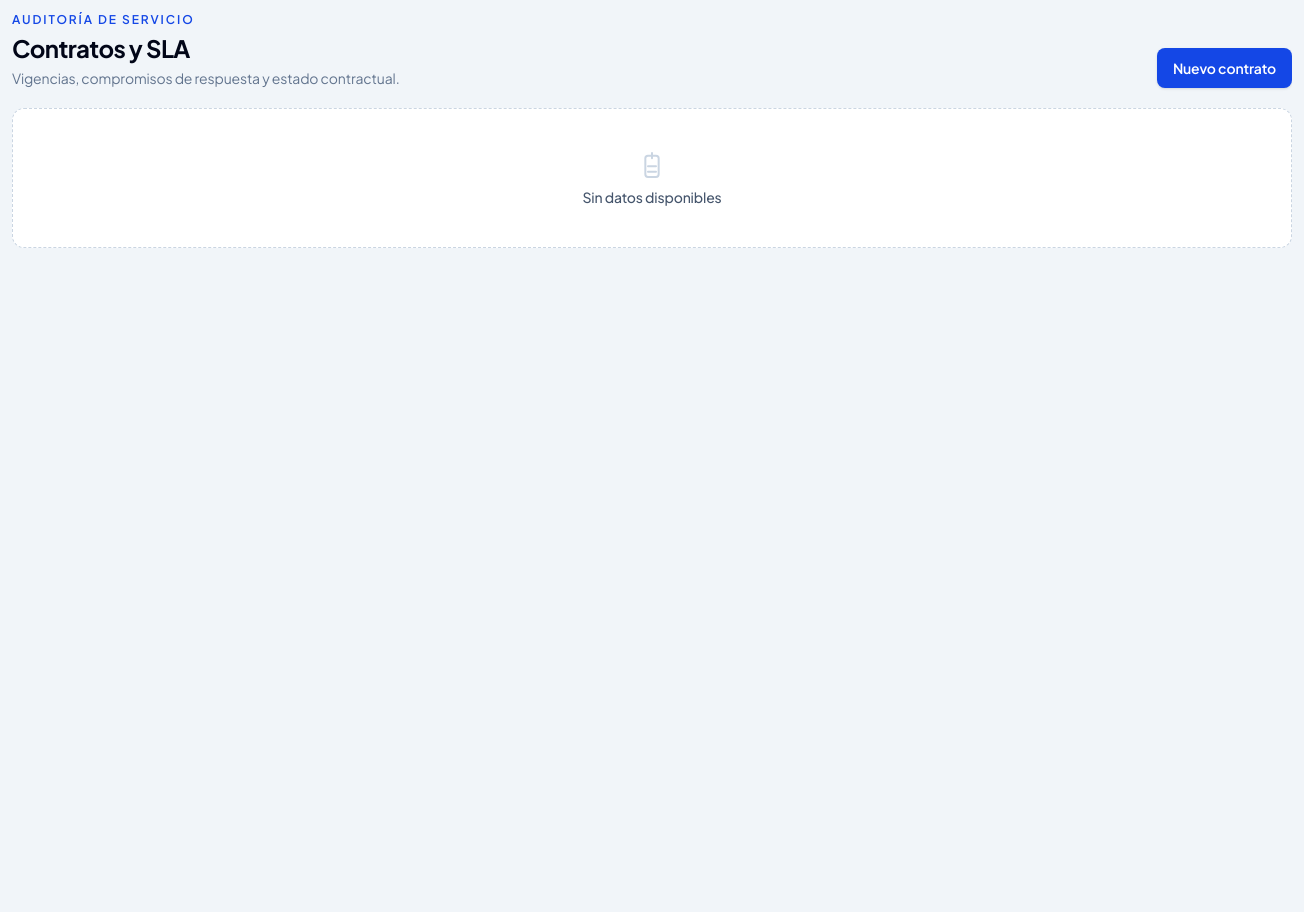
Test: ContratosPage › monto «-5» se rechaza
Click the button "Nuevo contrato".
click(1224, 68)  # box x1=1157 y1=48 x2=1292 y2=88
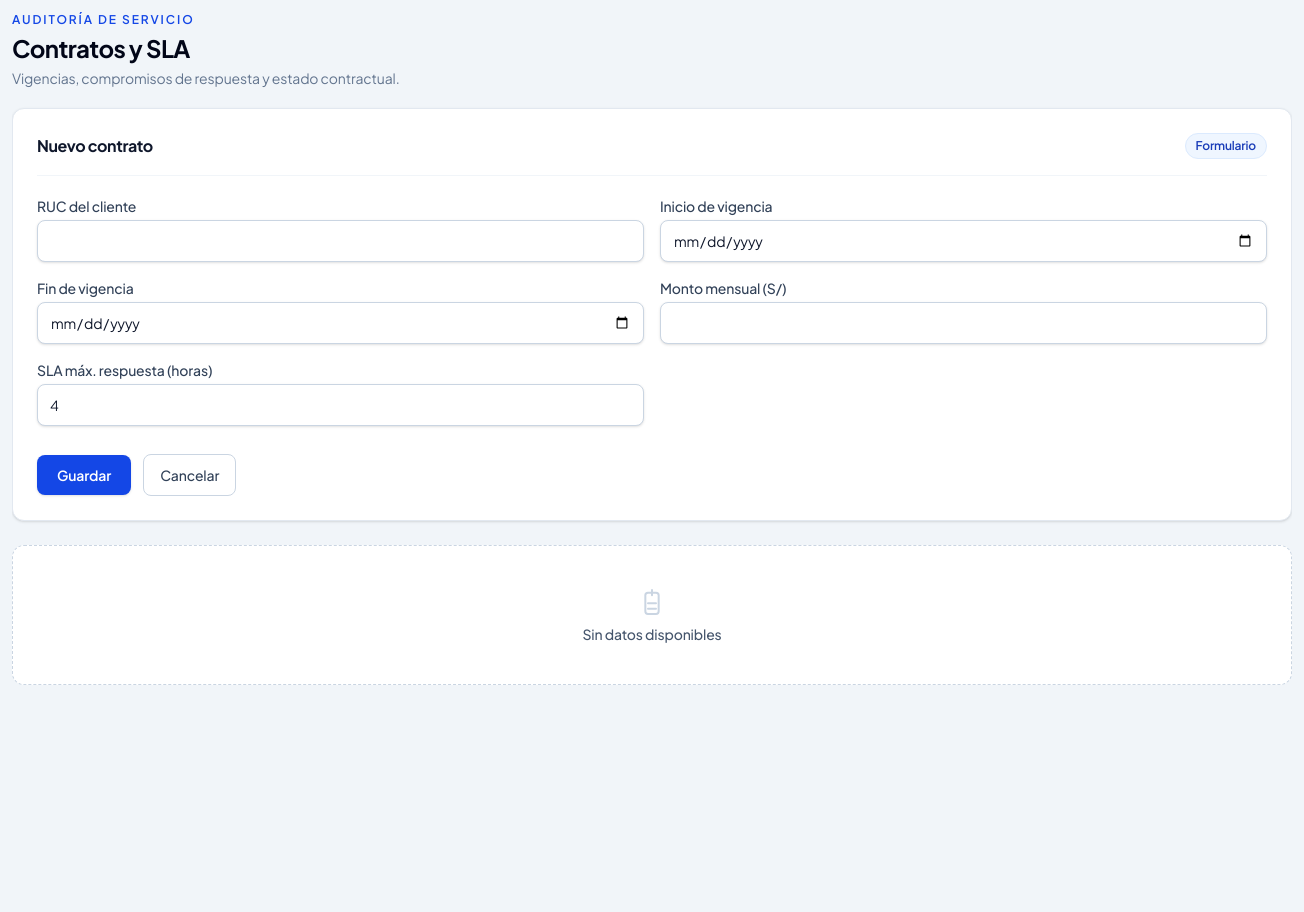
Type "20612493821" into the field labelled "RUC del cliente".
click(340, 241); type("20612493821")  # box x1=37 y1=220 x2=644 y2=262
Type "2026-01-01" into the date field labelled "Inicio de vigencia".
click(964, 241); type("2026-01-01")  # box x1=660 y1=220 x2=1267 y2=262
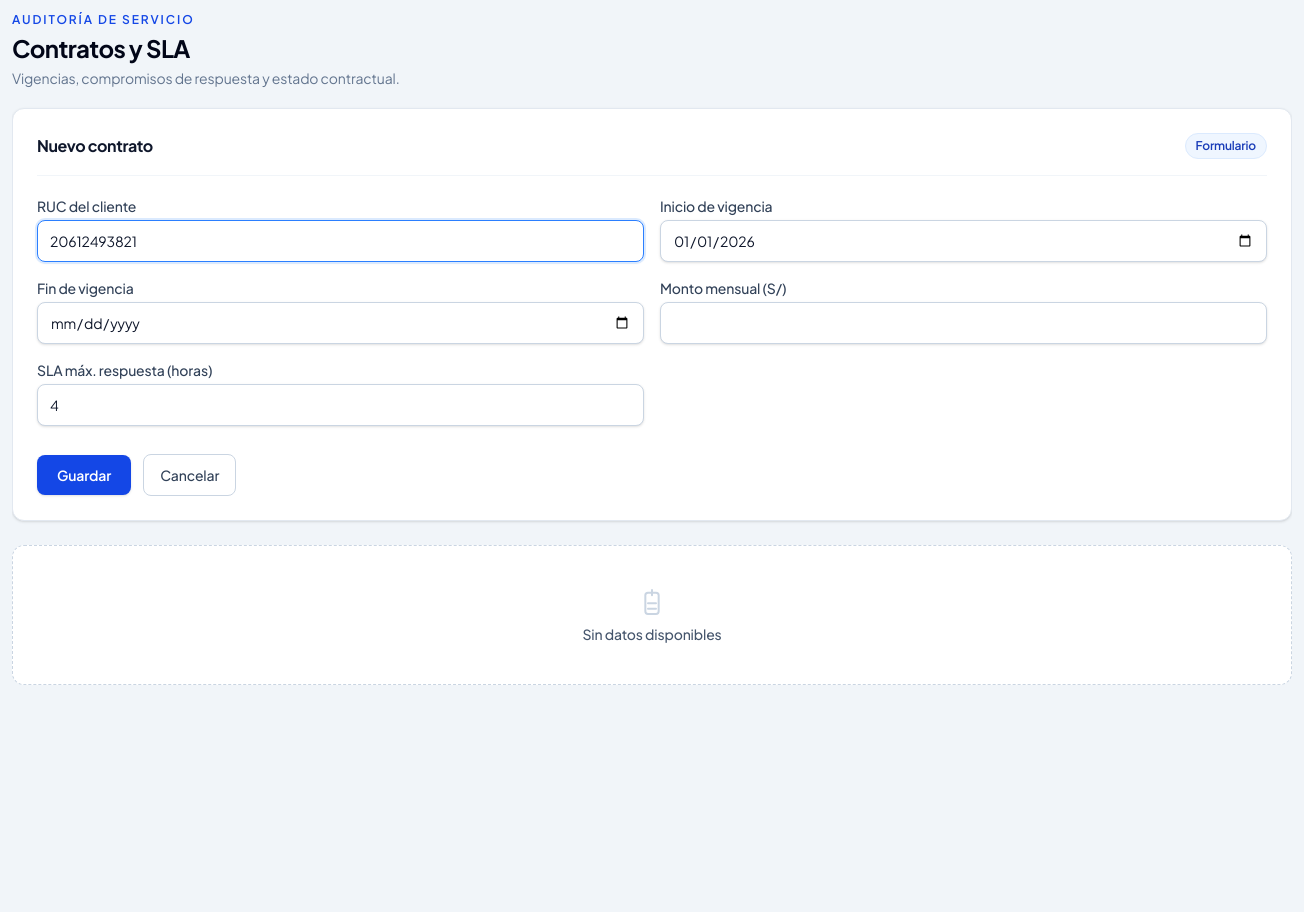
Type "2026-12-31" into the date field labelled "Fin de vigencia".
click(340, 323); type("2026-12-31")  # box x1=37 y1=302 x2=644 y2=344
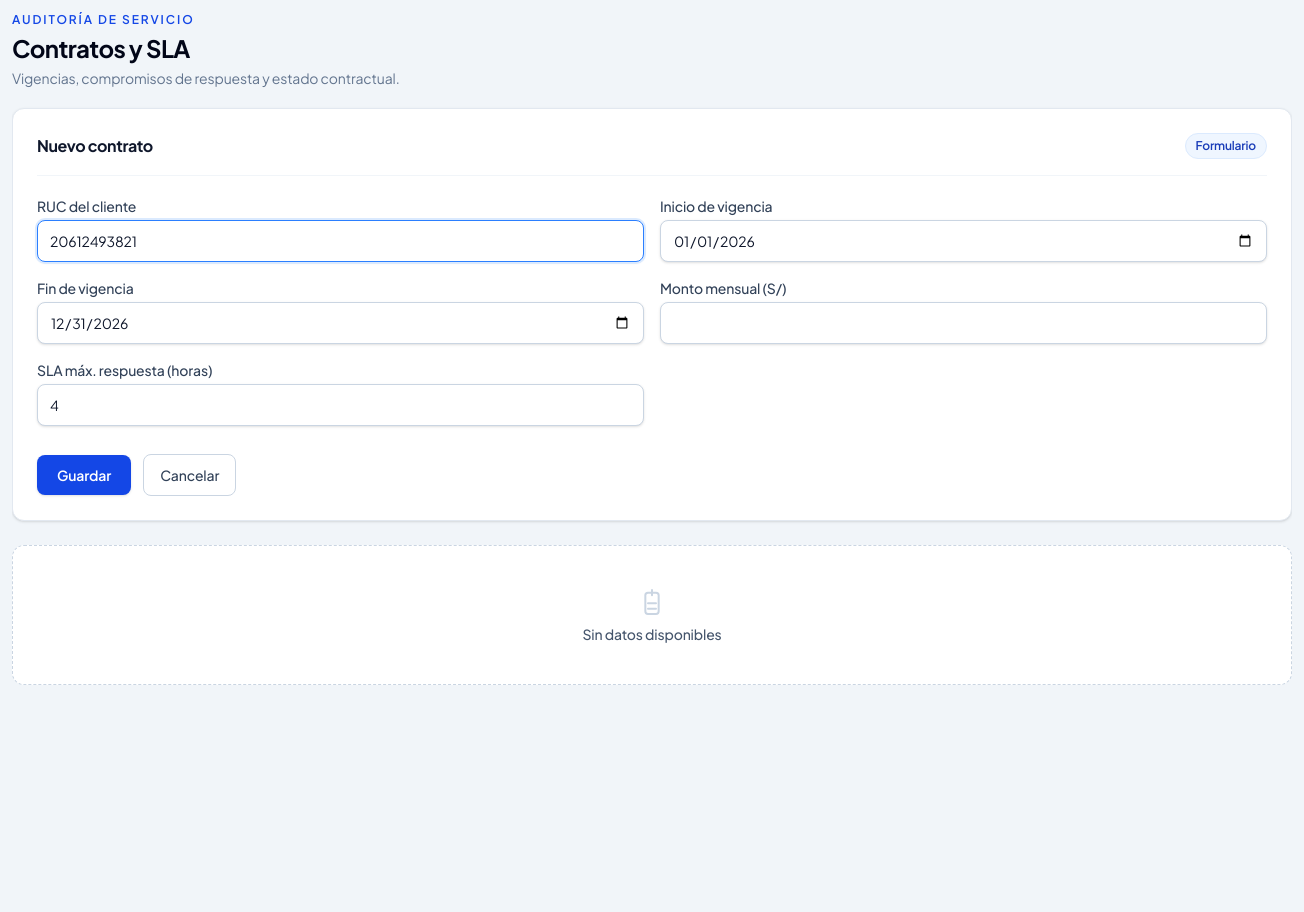
Type "-5" into the field labelled "Monto mensual (S/)".
click(964, 323); type("-5")  # box x1=660 y1=302 x2=1267 y2=344
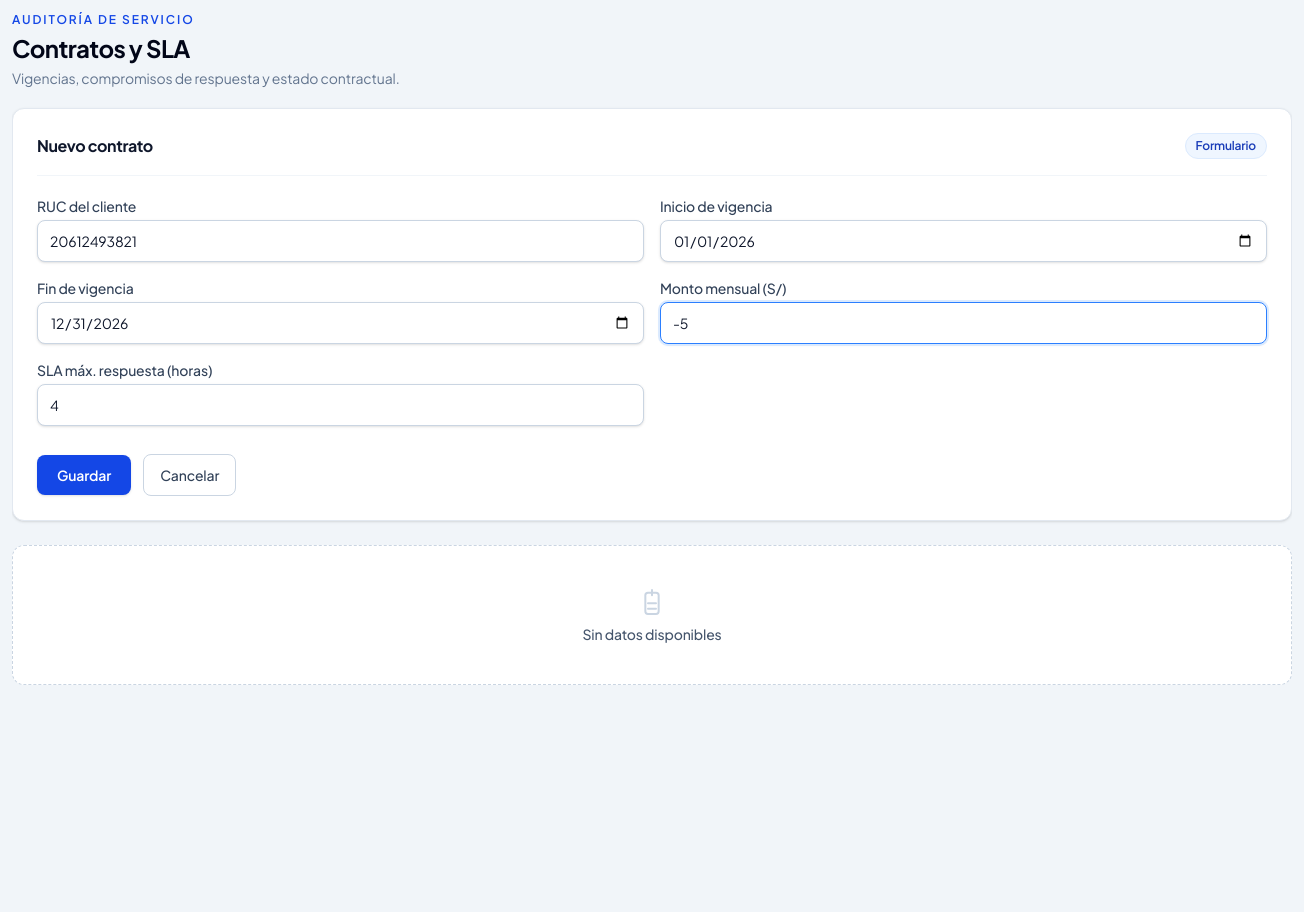
Replace the text in the field labelled "SLA máx. respuesta (horas)" with "6" at (340, 405), box x1=37 y1=384 x2=644 y2=426
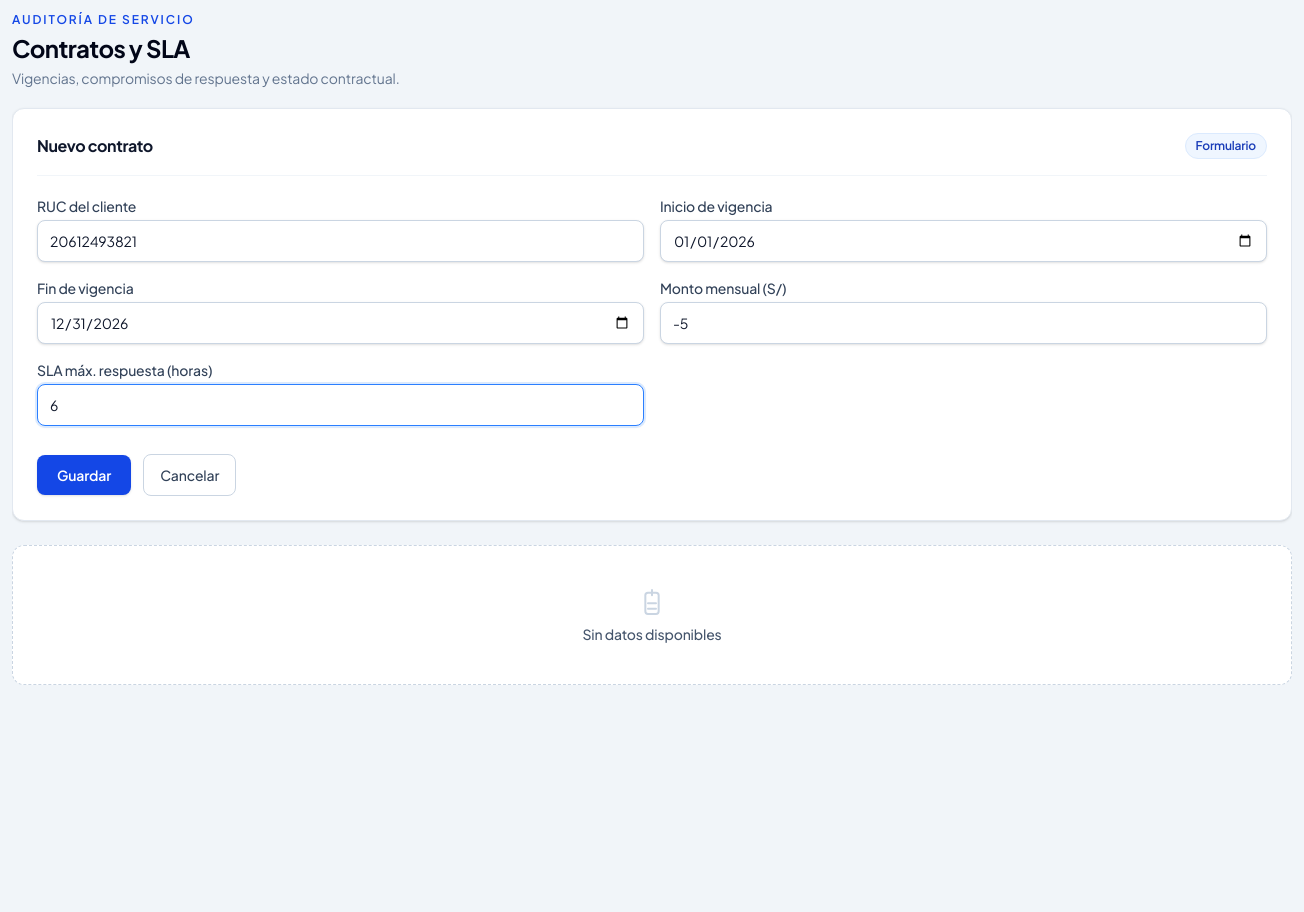
Click the button "Guardar".
click(84, 475)  # box x1=37 y1=455 x2=131 y2=495
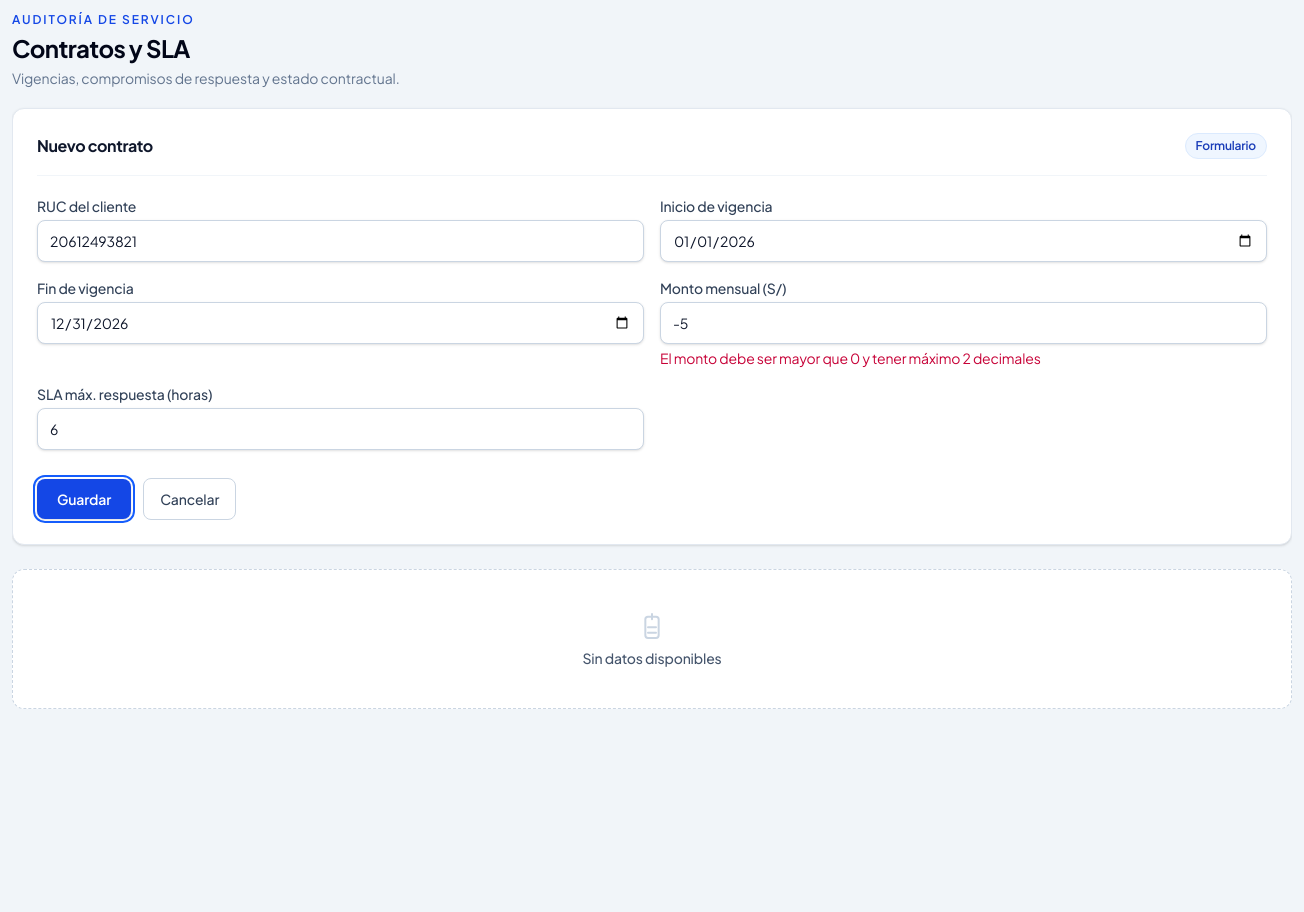
Expected: the text "El monto debe ser mayor que 0 y tener máximo 2 decimales" is shown, x1=660 y1=349 x2=1041 y2=367
